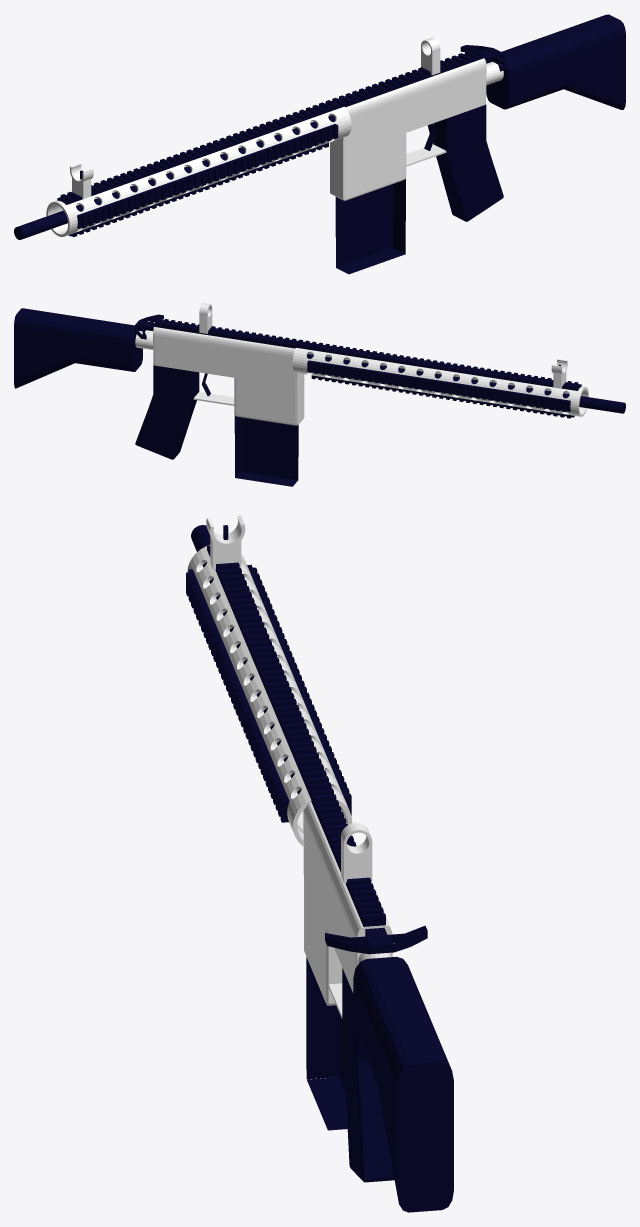
Rendered from stoner0011.obj.
3 renders of one model, top to bottom at view 1: azimuth 30°, elevation 25°; view 2: azimuth 150°, elevation 25°; view 3: azimuth 270°, elevation 25°, orthographic. The views are drawn at different scales.
Visible parts, largest first — view 1: shoulderStock, upperReceiver, rearPistolGrip, mag, handGuard, picatinyRail, picatinyRailLeft, magWell, barrel, picatinyRailBottom, lowerTriggerGuard, handle (+1 smaller); view 2: shoulderStock, upperReceiver, handGuard, mag, rearPistolGrip, picatinyRail, picatinyRailRight, magWell, barrel, picatinyRailBottom, lowerTriggerGuard, handle; view 3: shoulderStock, picatinyRail, handGuard, rearPistolGrip, mag, upperReceiver, picatinyRailLeft, magWell, picatinyRailRight, handle.
Part boxes in pixels (x1,y1,x2,y2): shoulderStock: [486, 14, 625, 109]; upperReceiver: [329, 58, 486, 154]; rearPistolGrip: [433, 104, 503, 221]; mag: [335, 179, 405, 274]; handGuard: [46, 106, 351, 236]; picatinyRail: [57, 48, 483, 204]; picatinyRailLeft: [77, 124, 338, 228]; magWell: [330, 133, 406, 200]; barrel: [14, 115, 335, 239]; picatinyRailBottom: [68, 143, 328, 236]; lowerTriggerGuard: [406, 144, 446, 166]; handle: [460, 45, 505, 71]; shoulderStock: [14, 308, 142, 388]; upperReceiver: [153, 327, 304, 387]; handGuard: [292, 348, 588, 416]; mag: [234, 416, 298, 486]; rearPistolGrip: [135, 365, 199, 459]; picatinyRail: [154, 318, 581, 390]; picatinyRailRight: [307, 360, 570, 411]; magWell: [234, 378, 304, 425]; barrel: [307, 354, 625, 413]; picatinyRailBottom: [311, 375, 574, 418]; lowerTriggerGuard: [193, 391, 234, 405]; handle: [135, 314, 163, 339]; shoulderStock: [353, 956, 453, 1212]; picatinyRail: [207, 545, 385, 926]; handGuard: [187, 545, 352, 846]; rearPistolGrip: [342, 968, 394, 1182]; mag: [306, 957, 347, 1130]; upperReceiver: [303, 802, 392, 992]; picatinyRailLeft: [186, 569, 289, 822]; magWell: [304, 876, 342, 1005]; picatinyRailRight: [247, 564, 351, 815]; handle: [325, 925, 427, 954].
Bounding box in the file's own units: 8.92 × 2.55 × 1.87.
